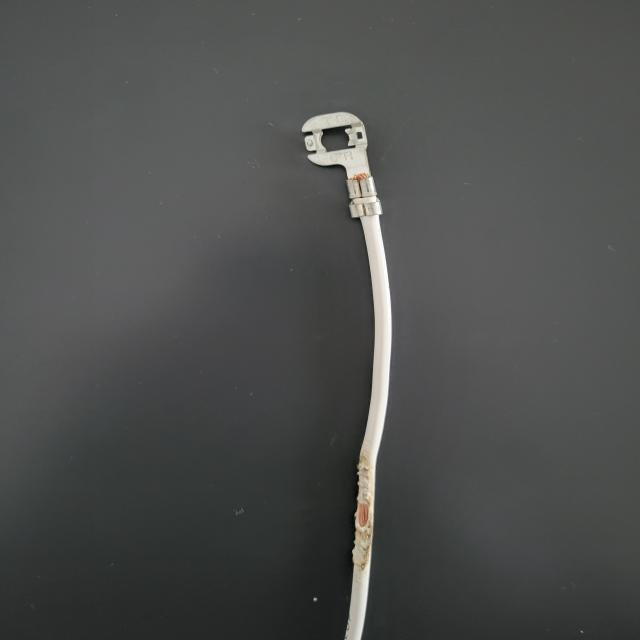defect: (324, 440, 410, 590)
